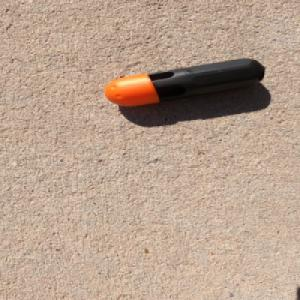PlasticPart: (103, 57, 266, 107)
